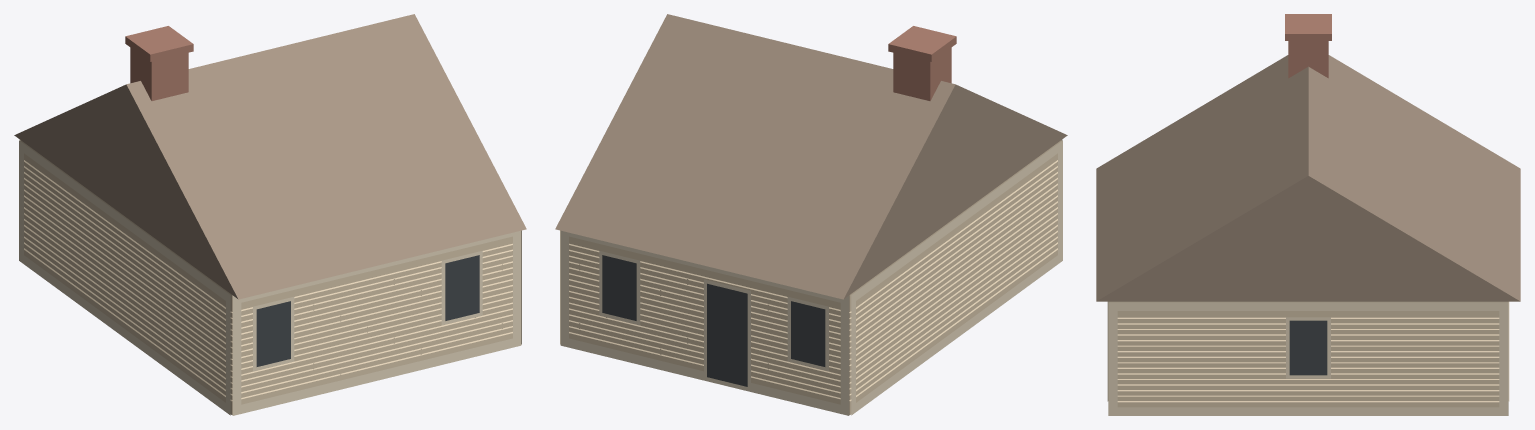
File: recon_1835_north_d4_056__inferred_1835.glb
The picture shows the model from 3 angles, left to right: view 1: azimuth 30°, elevation 25°; view 2: azimuth 150°, elevation 25°; view 3: azimuth 270°, elevation 25°; orthographic projection. The views are drawn at different scales.
Visible parts, largest first — view 1: recon_1835_north_d4_056__inferred_1835; view 2: recon_1835_north_d4_056__inferred_1835; view 3: recon_1835_north_d4_056__inferred_1835.
Part boxes in pixels (x1,y1,x2,y2): recon_1835_north_d4_056__inferred_1835: (14, 14, 526, 415); recon_1835_north_d4_056__inferred_1835: (555, 14, 1067, 415); recon_1835_north_d4_056__inferred_1835: (1096, 14, 1520, 415).
Size of the model in its own units: 6.6 by 6.26 by 8.8.
